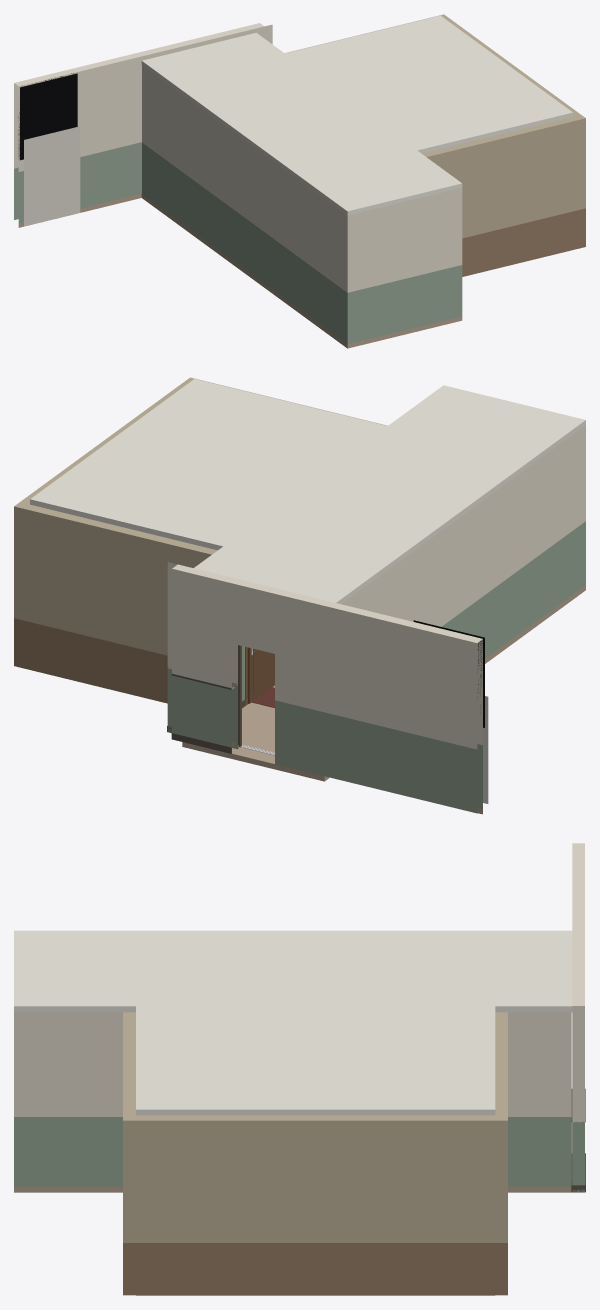
The model's file is Kat4.fbx.
3 views of the same model, one above another, from view 1: azimuth 30°, elevation 25°; view 2: azimuth 150°, elevation 25°; view 3: azimuth 270°, elevation 25° (orthographic). The views are drawn at different scales.
Parts seen in each view (by area): view 1: Kat4Koridor, Kat4Ev; view 2: Kat4Koridor, Kat4Ev; view 3: Kat4Ev, Kat4Koridor.
Part boxes in pixels (x1=…): Kat4Koridor: x1=14, y1=23, x2=462, y2=348; Kat4Ev: x1=285, y1=14, x2=585, y2=276; Kat4Koridor: x1=167, y1=385, x2=585, y2=814; Kat4Ev: x1=14, y1=377, x2=387, y2=703; Kat4Ev: x1=123, y1=1006, x2=507, y2=1295; Kat4Koridor: x1=14, y1=843, x2=585, y2=1192.
Size of the model in its own units: 9.8 by 3.3 by 8.92.
